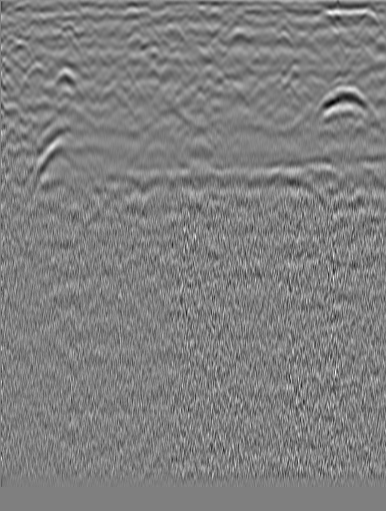가스: (91, 148, 385, 193)
